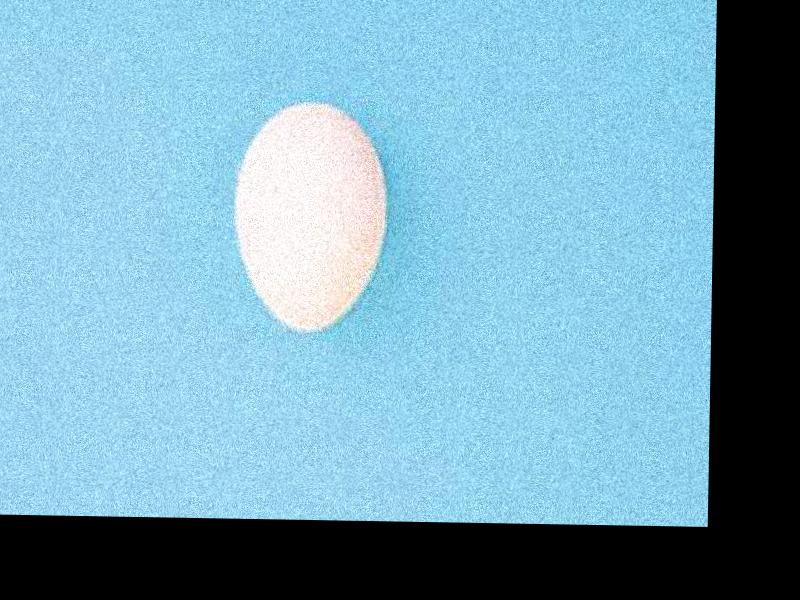Eggs: (235, 101, 389, 337)
